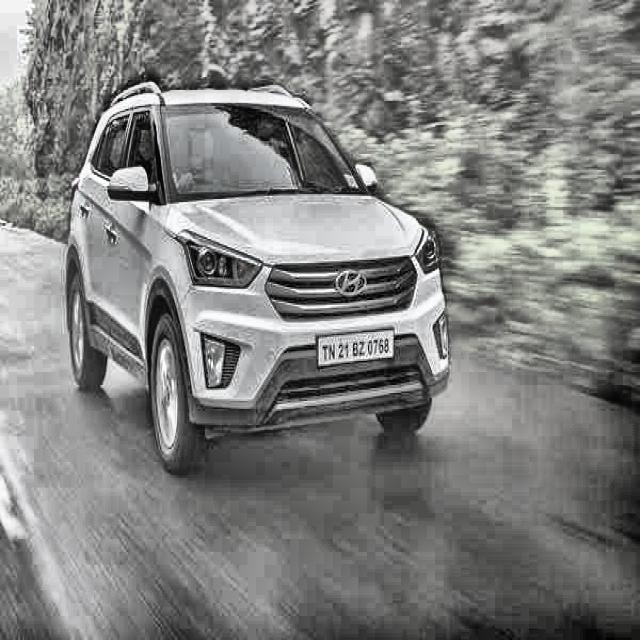license_plate: (316, 332, 391, 366)
